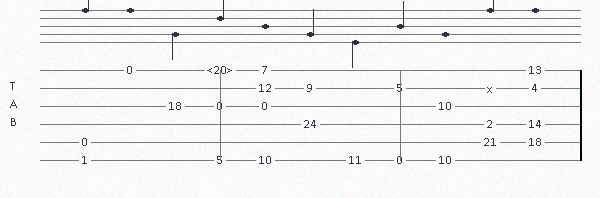0: (81, 136, 92, 148), (126, 64, 137, 76), (216, 100, 227, 112), (261, 100, 272, 112), (396, 154, 407, 166)
1: (81, 154, 92, 166)
10: (258, 154, 276, 166), (438, 154, 456, 166), (438, 100, 456, 112)
11: (348, 154, 366, 166)
12: (258, 82, 276, 94)
13: (528, 64, 546, 76)
14: (528, 118, 546, 130)
18: (168, 100, 186, 112), (528, 136, 546, 148)
2: (486, 118, 497, 130)
21: (483, 136, 501, 148)
24: (303, 118, 321, 130)
4: (531, 82, 542, 94)
5: (216, 154, 227, 166), (396, 82, 407, 94)
7: (261, 64, 272, 76)
9: (306, 82, 317, 94)
harmonic: (207, 64, 237, 76)
x: (487, 83, 497, 93)
